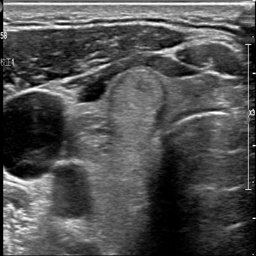mass: (109, 71, 163, 141)
